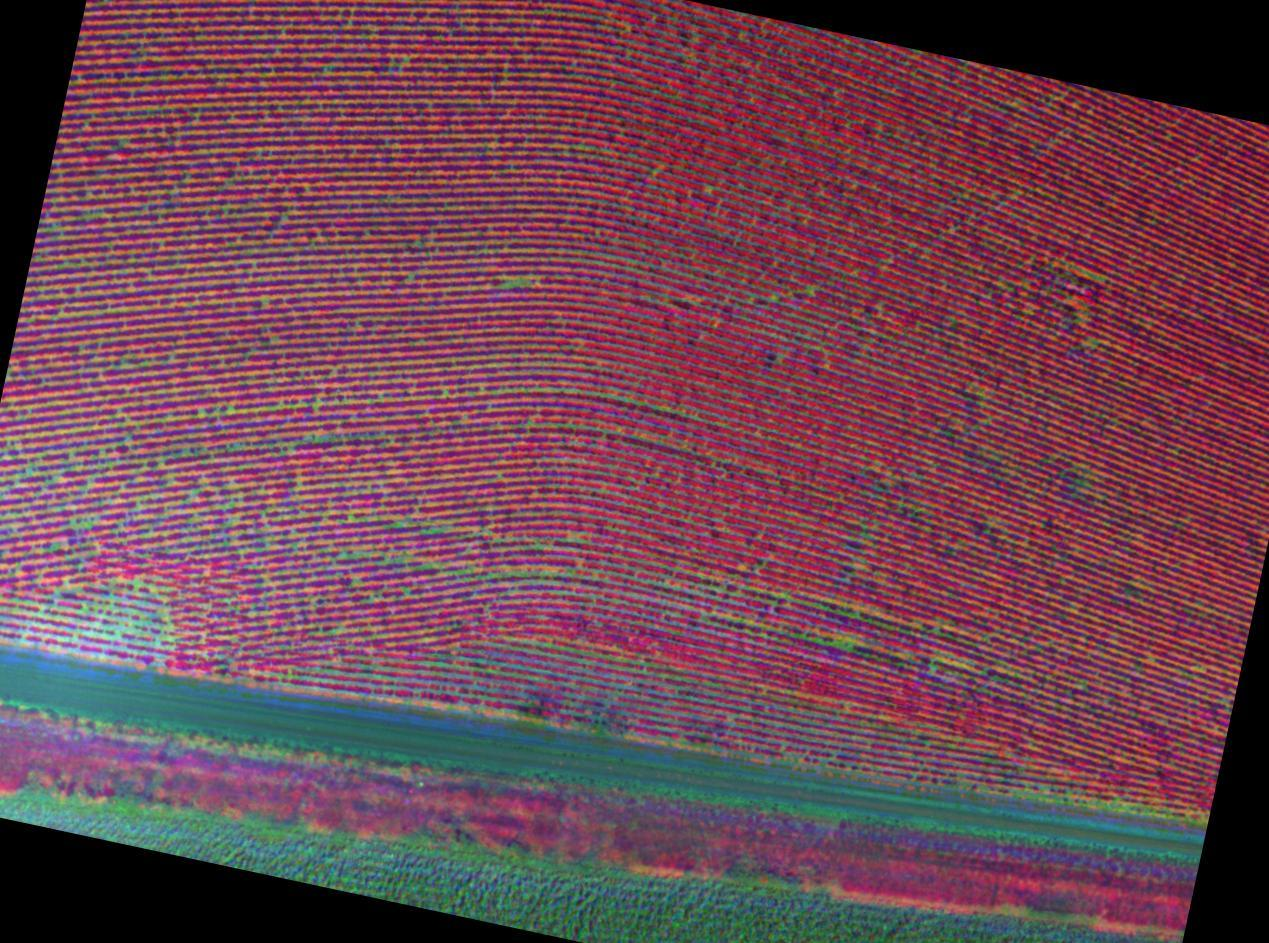dc: (199, 411, 204, 416), (837, 642, 842, 647), (228, 407, 232, 411), (404, 590, 408, 594), (263, 300, 266, 304), (292, 531, 295, 534)
